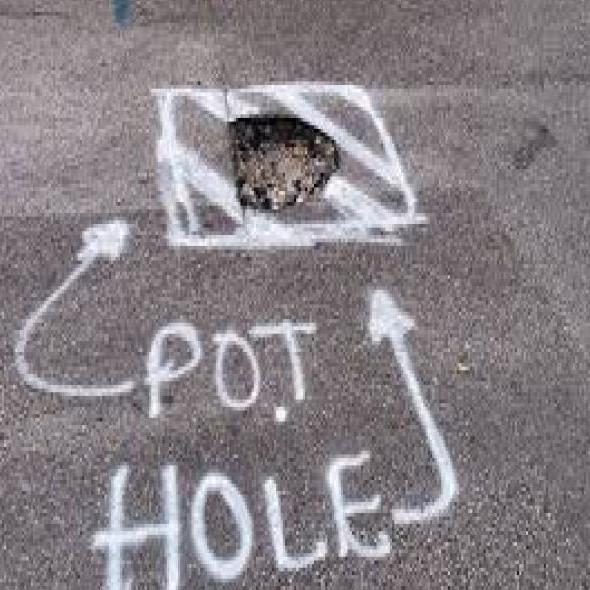pothole: (178, 101, 380, 224)
